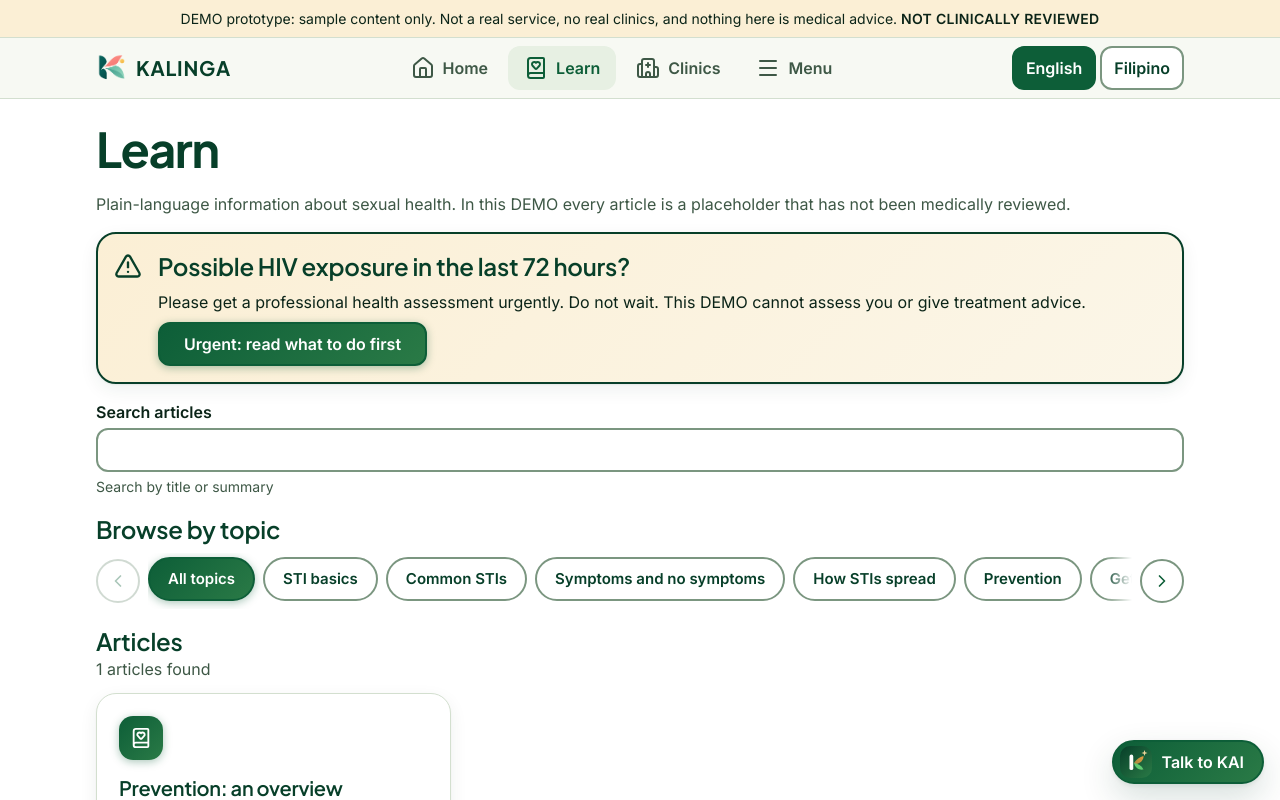
Scenario: Learn page › shows an empty state and clears filters
This screenshot has width=1280, height=800.
Expected: the link "Prevention: an overview" is shown, [119,775,342,799]
Type "zzz" into the search field labelled "Search articles" at [640, 450], box [96,428,1184,472]
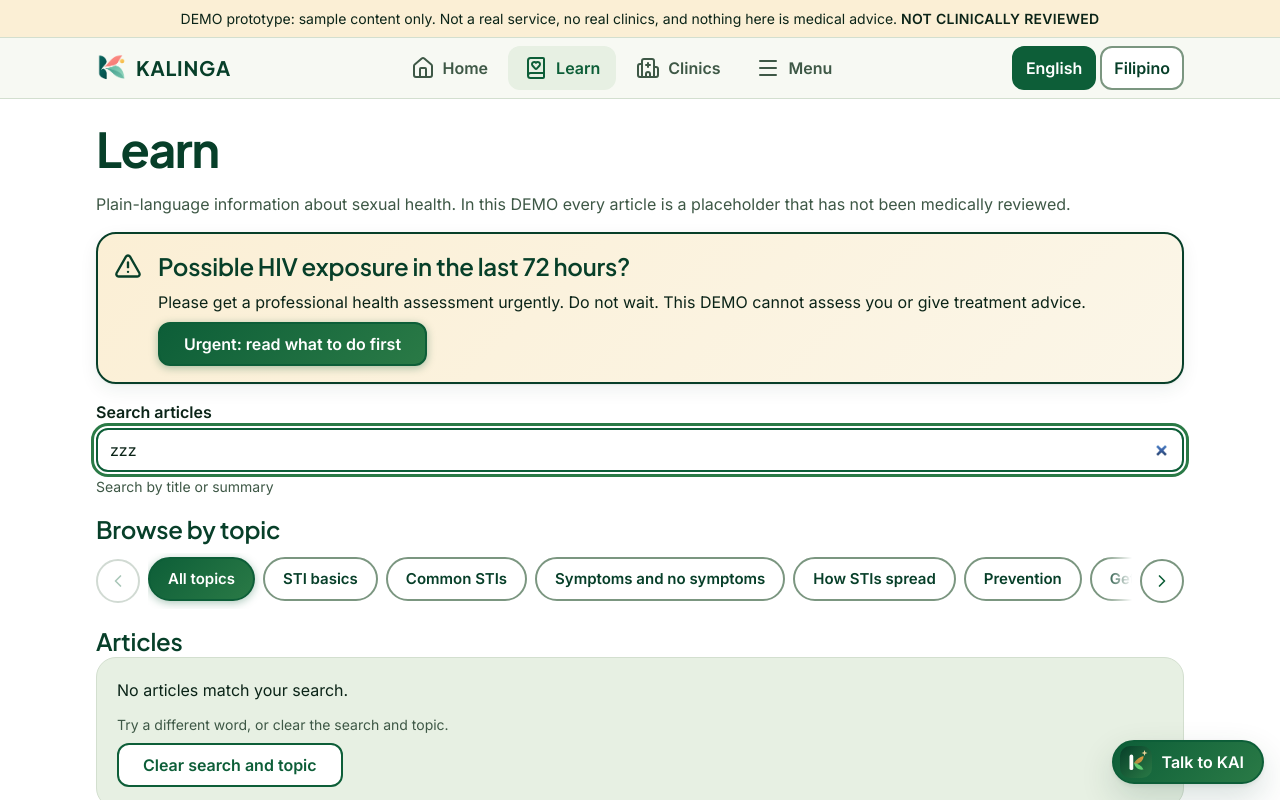
Expected: the element with test id "learn-empty" shows "No articles match your search.", [117,680,348,700]
Click the button "Clear search and topic" at [230, 765], box [117,743,343,787]
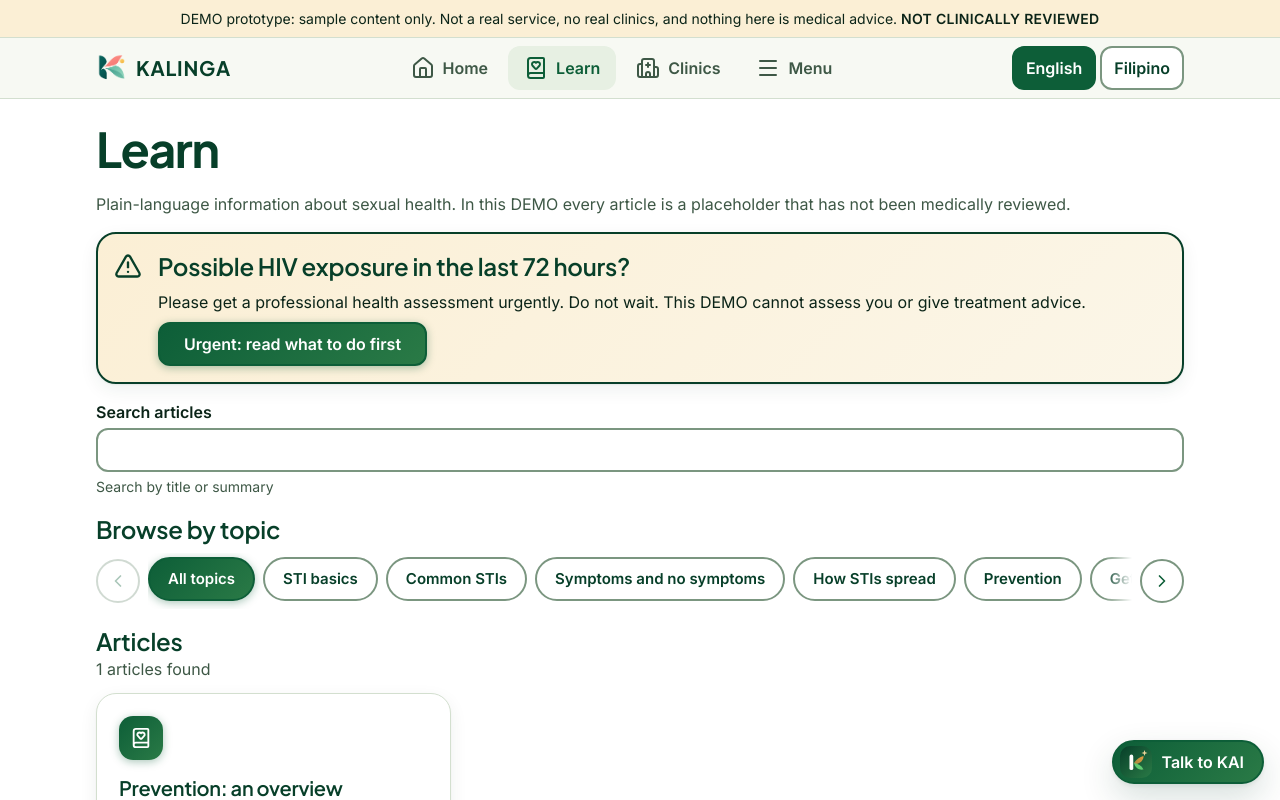
Expected: the link "Prevention: an overview" is shown, [119,775,342,799]
Expected: the search field is empty, [96,428,1184,472]
